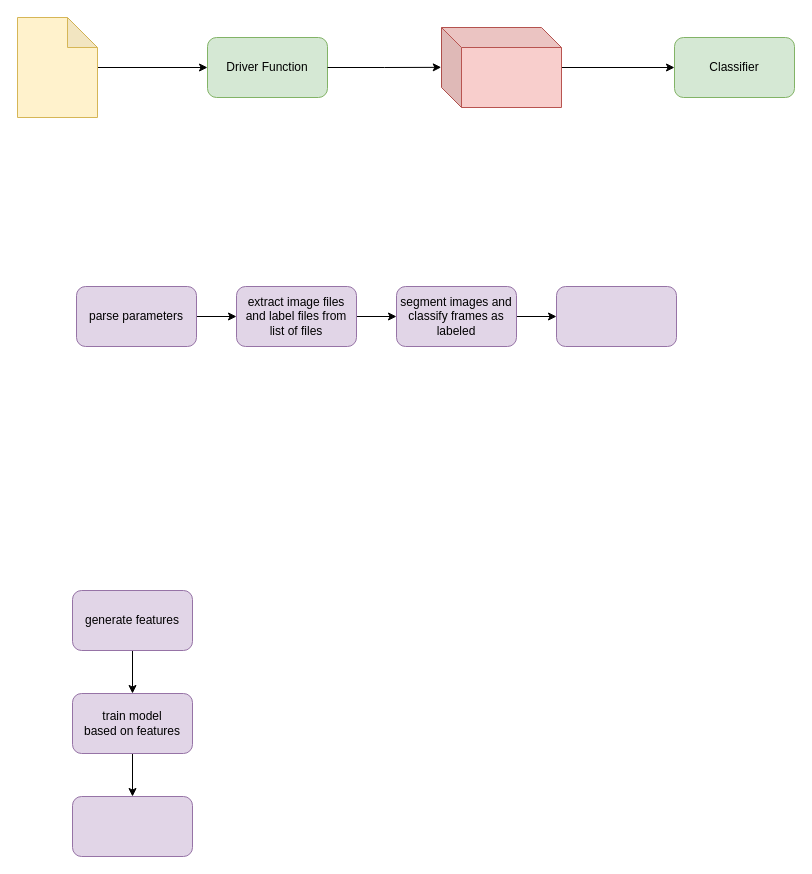
Image size: 812x874. Some labels were removed from this diagram. Each missing label, with the box of its shape:
evaluate with different data: (72, 796, 192, 856)
features of frames: (440, 26, 562, 108)
generate RGBA values and apply DCT: (556, 286, 676, 346)
parameter file: (16, 16, 98, 118)
